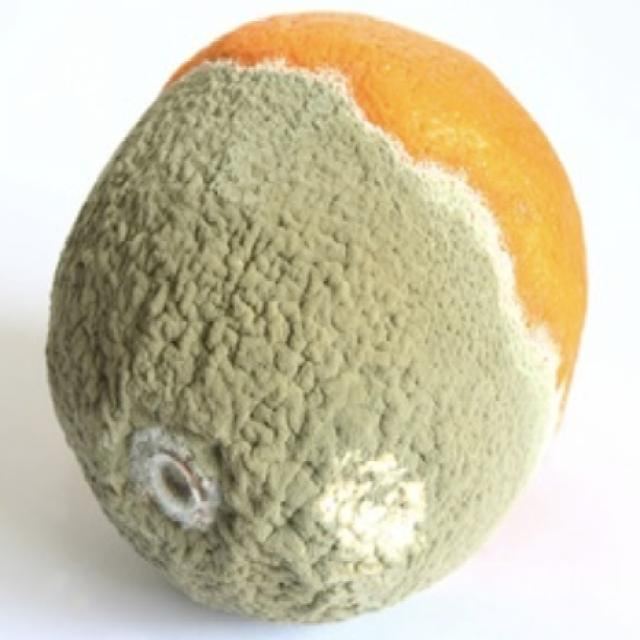sangat-busuk: (46, 13, 586, 622), (47, 64, 552, 621)
